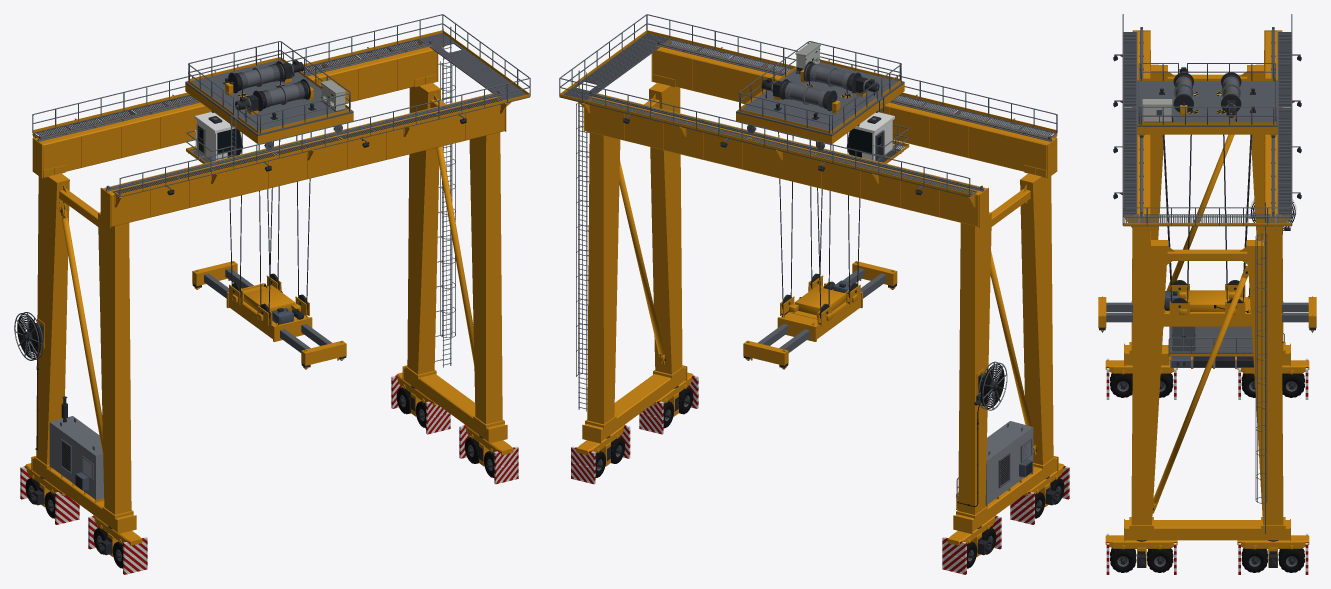
The model's file is rtg-crane.glb.
3 renders of one model, left to right at view 1: azimuth 30°, elevation 25°; view 2: azimuth 150°, elevation 25°; view 3: azimuth 270°, elevation 25°, orthographic. The views are drawn at different scales.
Parts seen in each view (by area): view 1: GantryFrame_Body, CrossoverRailing, Trolley_Body.016, MH_Enclosure, CatwalkDeck_F, Trolley_TopRailing, Ladder_LegLB, CatwalkDeck_B, CrossoverDeck, TrolleyRail_F, Trolley_DeckFrame, TrolleyRail_B (+10 smaller); view 2: GantryFrame_Body, CrossoverRailing, Trolley_Body.016, CatwalkDeck_B, Trolley_TopRailing, MH_Enclosure, Ladder_LegLB, CatwalkDeck_F, CrossoverDeck, TrolleyRail_B, Trolley_DeckFrame, CableReel (+10 smaller); view 3: GantryFrame_Body, Trolley_Body.016, CatwalkDeck_B, CatwalkDeck_F, Ladder_LegLB, Trolley_TopRailing, CrossoverRailing, MH_Enclosure, CrossoverDeck, Spreader_MainFrame_Body, Trolley_DeckFrame, Headblock_Part_03 (+26 smaller).
Part boxes in pixels (x1,y1,x2,y2): GantryFrame_Body: (31,43,507,533); CrossoverRailing: (32,14,530,196); Trolley_Body.016: (185,59,353,135); MH_Enclosure: (49,416,103,499); CatwalkDeck_F: (112,97,505,197); Trolley_TopRailing: (188,41,350,133); Ladder_LegLB: (435,26,455,367); CatwalkDeck_B: (33,38,425,137); CrossoverDeck: (419,33,529,103); TrolleyRail_F: (105,90,501,191); Trolley_DeckFrame: (185,83,353,143); TrolleyRail_B: (37,40,433,141); GantryFrame_Body: (582,43,1058,533); CrossoverRailing: (559,14,1057,196); Trolley_Body.016: (736,62,904,135); CatwalkDeck_B: (584,97,976,197); Trolley_TopRailing: (739,41,901,133); MH_Enclosure: (985,421,1033,504); Ladder_LegLB: (576,70,589,411); CatwalkDeck_F: (664,39,1056,137); CrossoverDeck: (559,33,670,102); TrolleyRail_B: (588,90,984,191); Trolley_DeckFrame: (736,83,904,143); CableReel: (957,361,1007,506); GantryFrame_Body: (1124,30,1290,541); Trolley_Body.016: (1137,80,1277,126); CatwalkDeck_B: (1277,32,1291,214); CatwalkDeck_F: (1123,32,1137,214); Ladder_LegLB: (1255,202,1267,533); Trolley_TopRailing: (1138,63,1276,124); CrossoverRailing: (1122,14,1292,225); MH_Enclosure: (1169,326,1252,352); CrossoverDeck: (1123,214,1291,226); Spreader_MainFrame_Body: (1163,295,1251,327); Trolley_DeckFrame: (1137,127,1277,134); Headblock_Part_03: (1186,290,1228,311).
Bounding box in the file's own units: 27.25 × 25.04 × 12.43.
